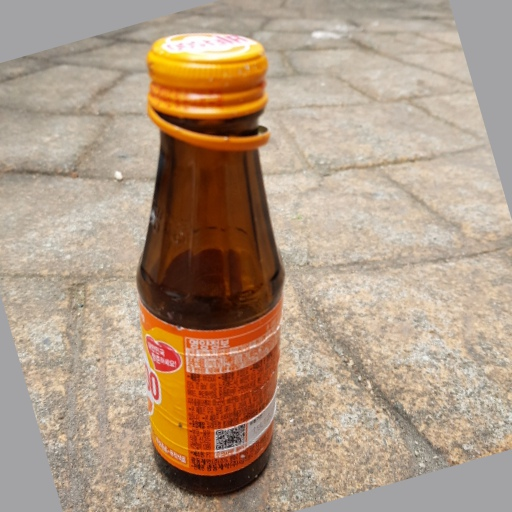Glass_3: (136, 31, 291, 498)
